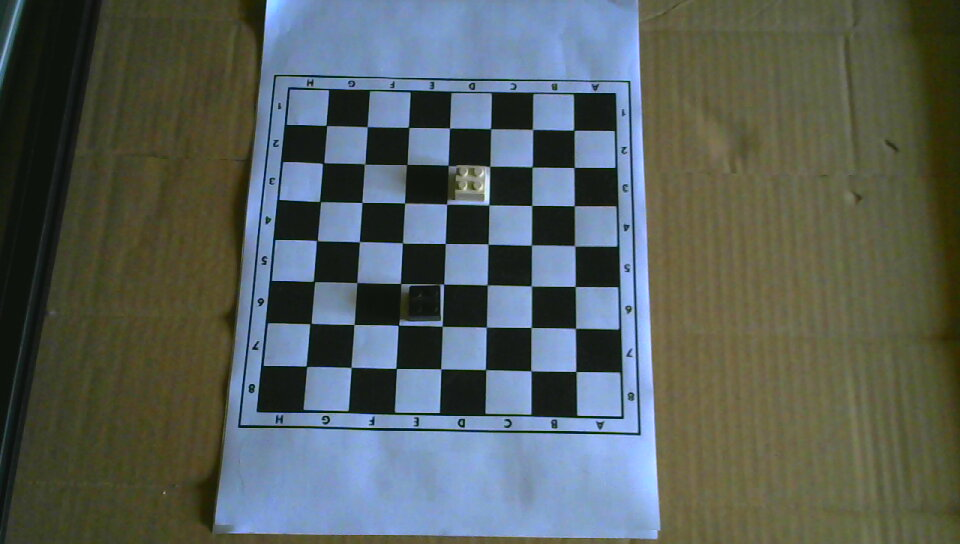bp: (407, 283, 442, 322)
wp: (453, 163, 487, 202)
